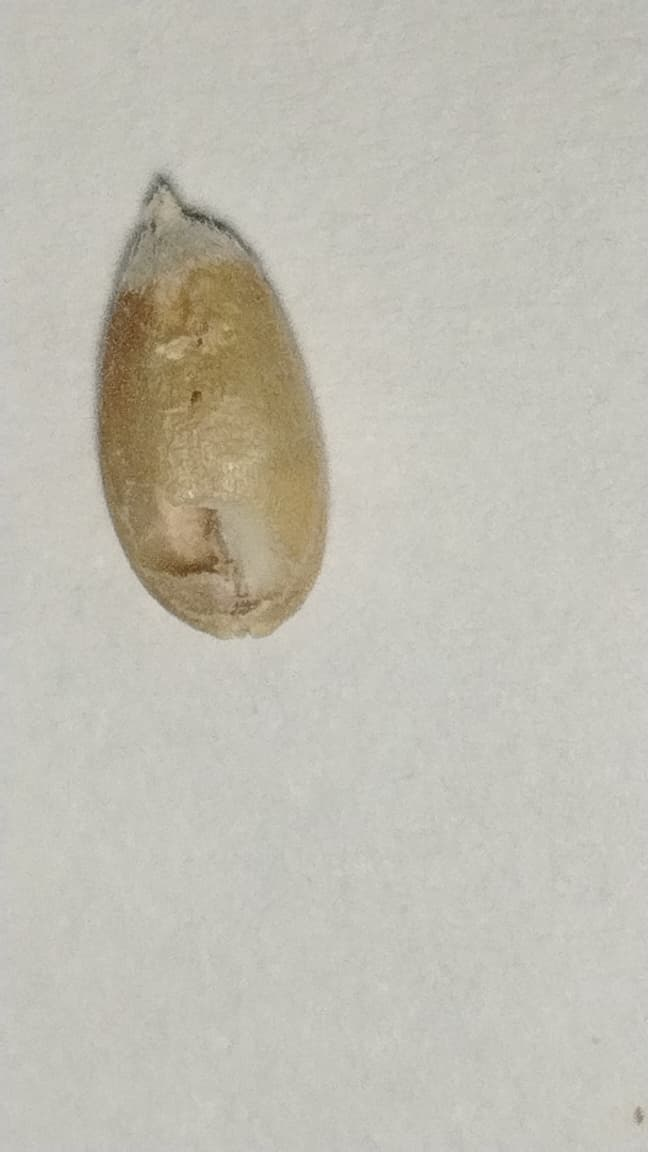damage: (99, 190, 326, 636)
insectdamage: (116, 485, 307, 601)
